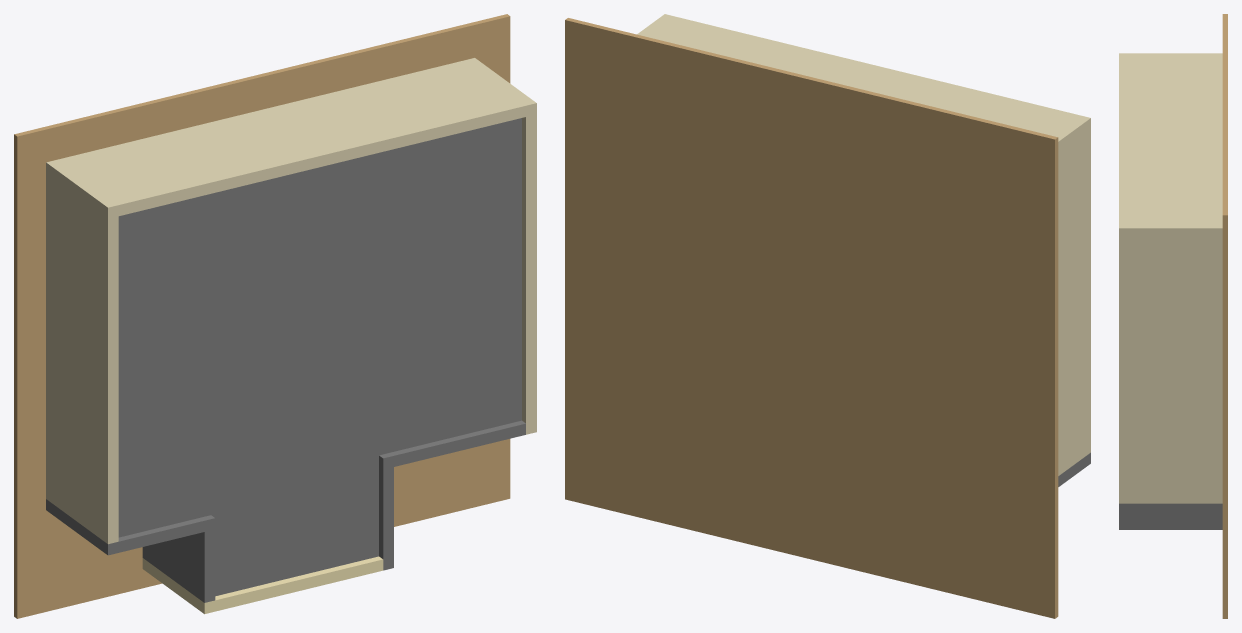
3 renders of one model, left to right at view 1: azimuth 30°, elevation 25°; view 2: azimuth 150°, elevation 25°; view 3: azimuth 270°, elevation 25°, orthographic. The views are drawn at different scales.
Visible parts, largest first — view 1: Compound_Ceiling_Plain_02_356469, Floor_Generic_150mm_356558, Basic_Wall_Generic_-_300mm_354463, Basic_Wall_Generic_-_300mm_355395, Basic_Wall_Generic_-_300mm_354821, Basic_Wall_Generic_-_300mm_355154, Basic_Wall_Generic_-_300mm_355069, Basic_Wall_Generic_-_300mm_354894, Basic_Wall_Generic_-_300mm_355273, Basic_Wall_Generic_-_300mm_354987; view 2: Floor_Generic_150mm_356558, Basic_Wall_Generic_-_300mm_354463, Basic_Wall_Generic_-_300mm_355395; view 3: Basic_Wall_Generic_-_300mm_354821, Basic_Wall_Generic_-_300mm_354463, Floor_Generic_150mm_356558, Basic_Wall_Generic_-_300mm_354987.
Part boxes in pixels (x1=…): Compound_Ceiling_Plain_02_356469: x1=118, y1=118, x2=521, y2=596; Floor_Generic_150mm_356558: x1=14, y1=14, x2=510, y2=618; Basic_Wall_Generic_-_300mm_354463: x1=46, y1=58, x2=536, y2=218; Basic_Wall_Generic_-_300mm_355395: x1=46, y1=174, x2=118, y2=544; Basic_Wall_Generic_-_300mm_354821: x1=522, y1=114, x2=536, y2=434; Basic_Wall_Generic_-_300mm_355154: x1=142, y1=515, x2=215, y2=602; Basic_Wall_Generic_-_300mm_355069: x1=142, y1=556, x2=383, y2=614; Basic_Wall_Generic_-_300mm_354894: x1=379, y1=420, x2=525, y2=469; Basic_Wall_Generic_-_300mm_355273: x1=46, y1=499, x2=204, y2=555; Basic_Wall_Generic_-_300mm_354987: x1=379, y1=467, x2=393, y2=570; Floor_Generic_150mm_356558: x1=565, y1=18, x2=1058, y2=618; Basic_Wall_Generic_-_300mm_354463: x1=637, y1=14, x2=1090, y2=152; Basic_Wall_Generic_-_300mm_355395: x1=1058, y1=129, x2=1090, y2=475; Basic_Wall_Generic_-_300mm_354821: x1=1119, y1=237, x2=1222, y2=503; Basic_Wall_Generic_-_300mm_354463: x1=1119, y1=53, x2=1222, y2=237; Floor_Generic_150mm_356558: x1=1222, y1=14, x2=1227, y2=618; Basic_Wall_Generic_-_300mm_354987: x1=1119, y1=503, x2=1222, y2=529.
Bounding box in the file's own units: 45.28 × 42.32 × 10.33.
